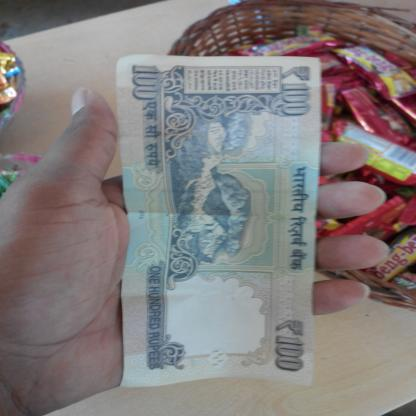Old100Back: (116, 54, 322, 390)
